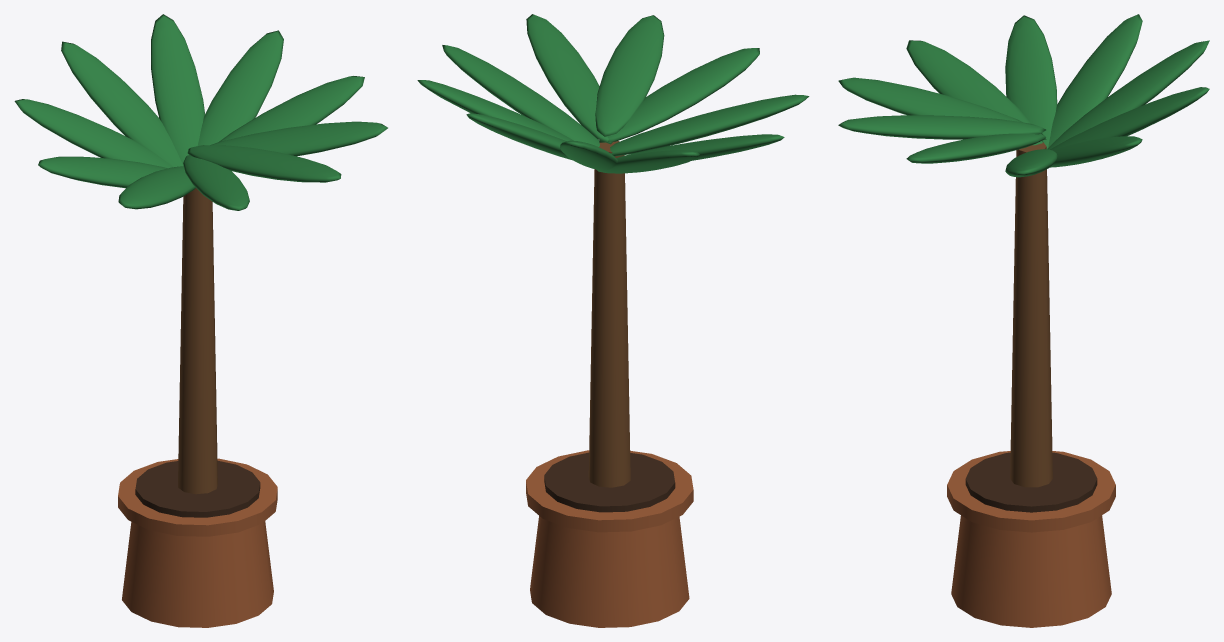
3 views of the same model, side by side, from view 1: azimuth 30°, elevation 25°; view 2: azimuth 150°, elevation 25°; view 3: azimuth 270°, elevation 25° (orthographic). The views are drawn at different scales.
Parts seen in each view (by area): view 1: indoor-palm-tall; view 2: indoor-palm-tall; view 3: indoor-palm-tall.
Boxes of the visible parts, left/top/right/bottom form: indoor-palm-tall: left=14, top=14, right=387, bottom=627; indoor-palm-tall: left=417, top=14, right=809, bottom=627; indoor-palm-tall: left=838, top=14, right=1209, bottom=627.
Bounding box in the file's own units: 1.18 × 1.75 × 1.11.
